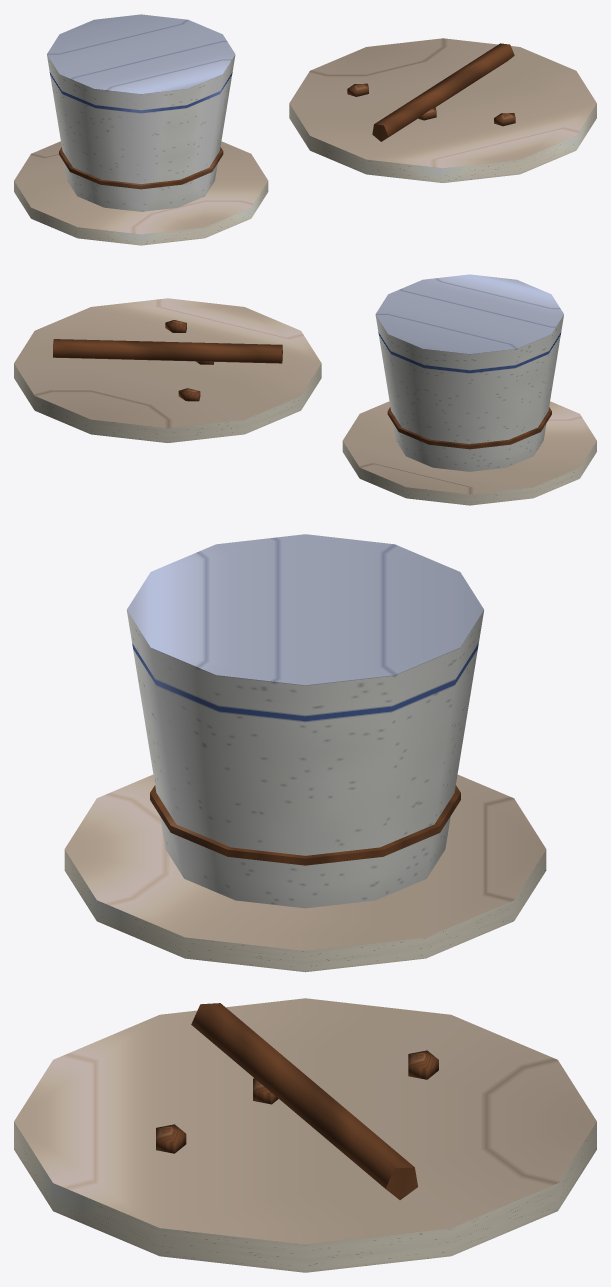
File: dish-tea-done.glb
The picture shows the model from 3 angles, top to bottom: view 1: azimuth 30°, elevation 25°; view 2: azimuth 150°, elevation 25°; view 3: azimuth 270°, elevation 25°; orthographic projection. The views are drawn at different scales.
Visible parts, largest first — view 1: dish-tea-done; view 2: dish-tea-done; view 3: dish-tea-done.
Boxes of the visible parts, <box> form: dish-tea-done: <box>14,14,596,245</box>; dish-tea-done: <box>14,274,596,505</box>; dish-tea-done: <box>14,534,596,1272</box>.
Bounding box in the file's own units: 0.0307 × 0.0074 × 0.015.
Materials: 1 (1 with a texture image).
